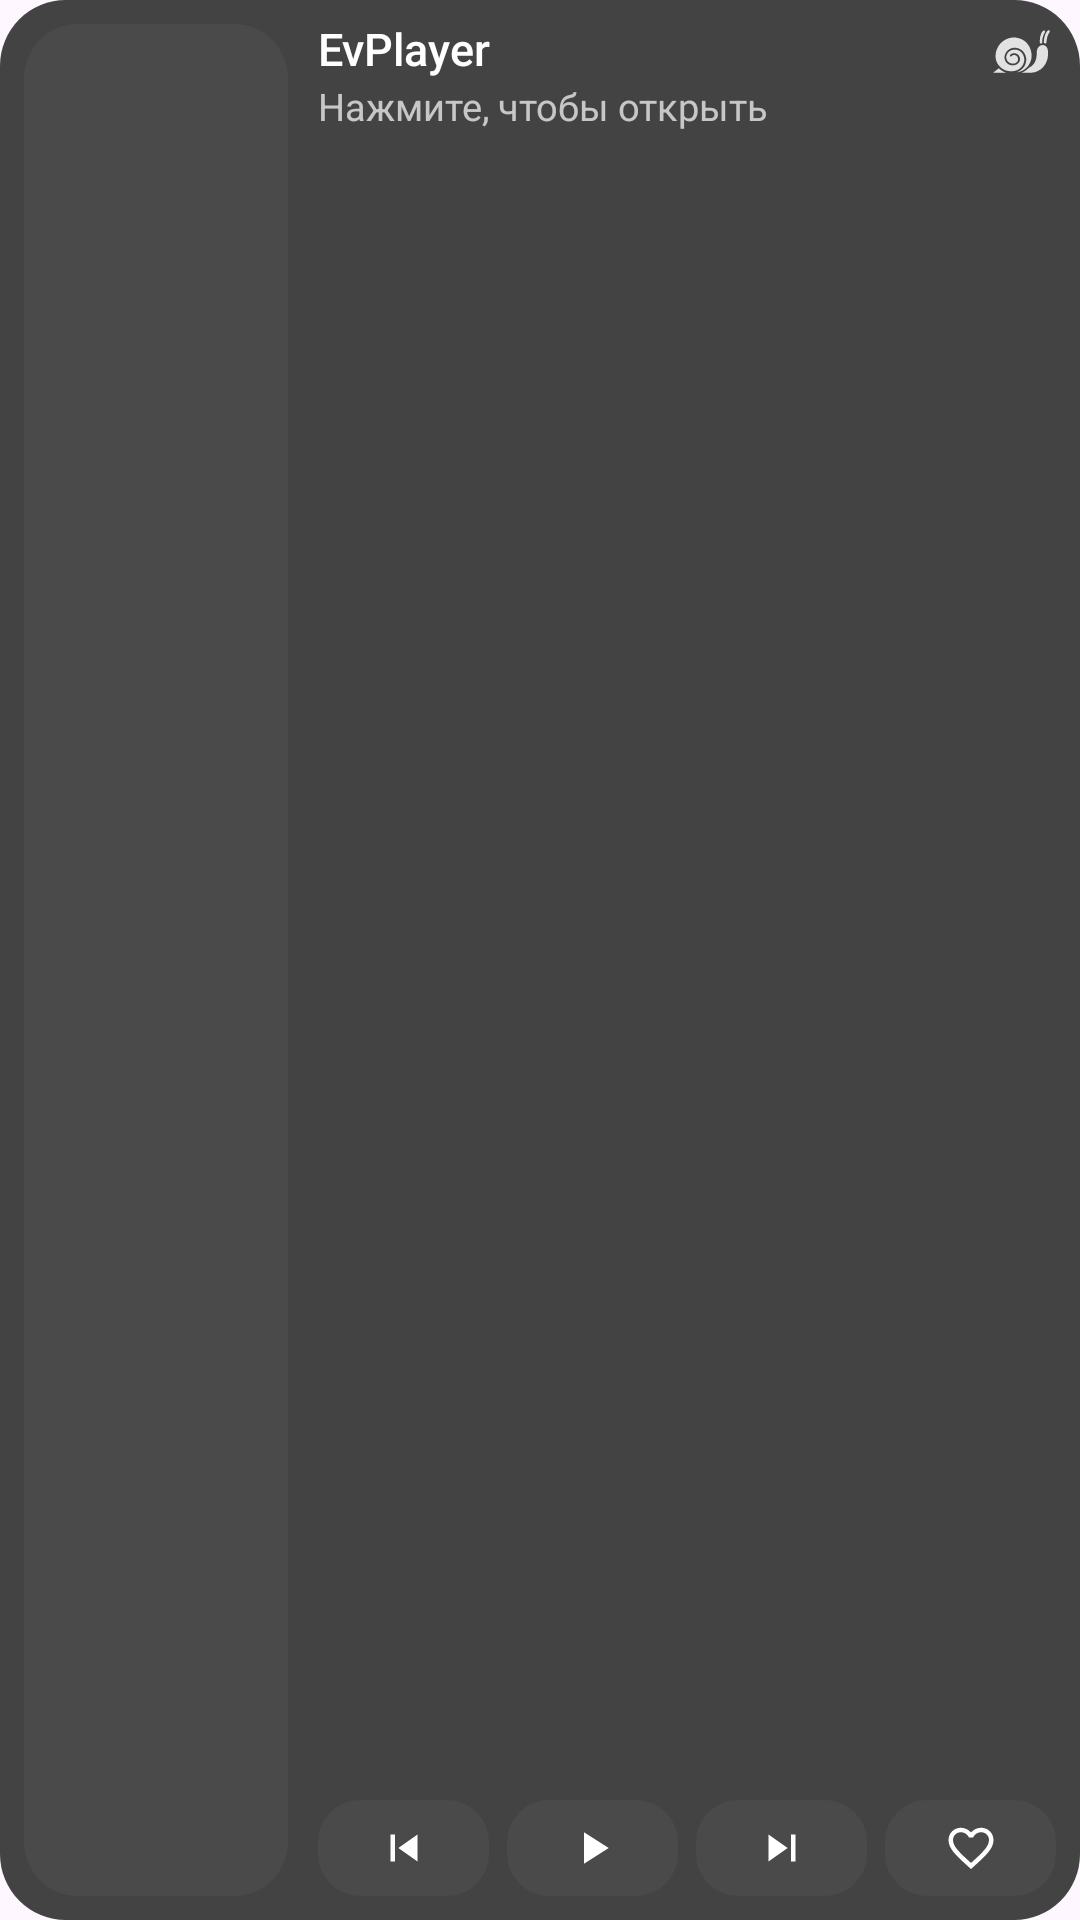

Icons on this 1080×1920 Android screen, each with the point to tap as (x=x, y=y):
Играть: (x=596, y=1848)
Нравится: (x=971, y=1848)
Предыдущий: (x=404, y=1848)
Следующий: (x=782, y=1848)
